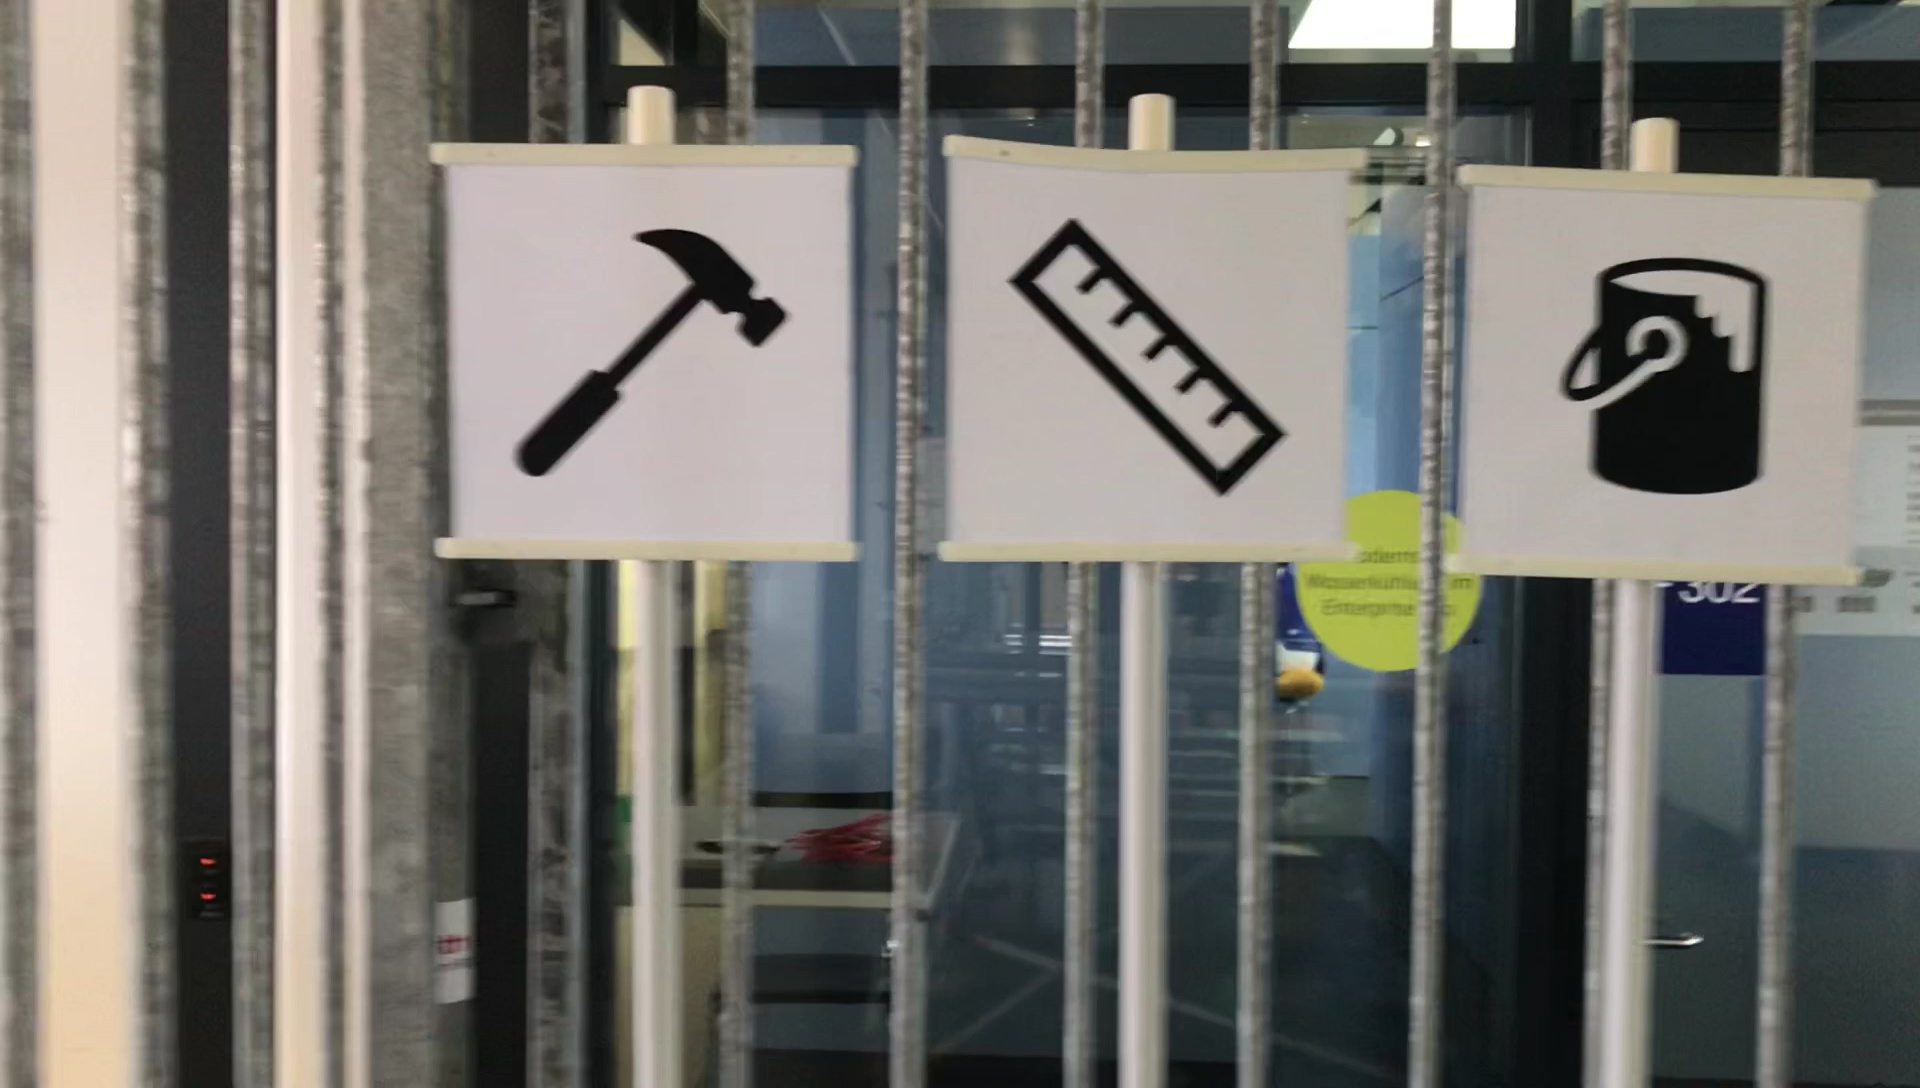bucket: (1553, 252, 1782, 506)
hammer: (518, 224, 791, 481)
ruler: (1001, 203, 1309, 504)
